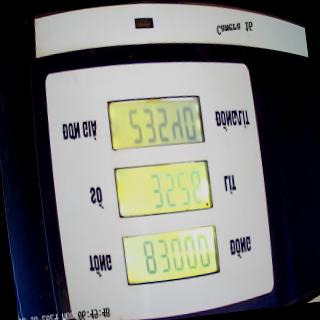screen: (102, 87, 225, 290)
